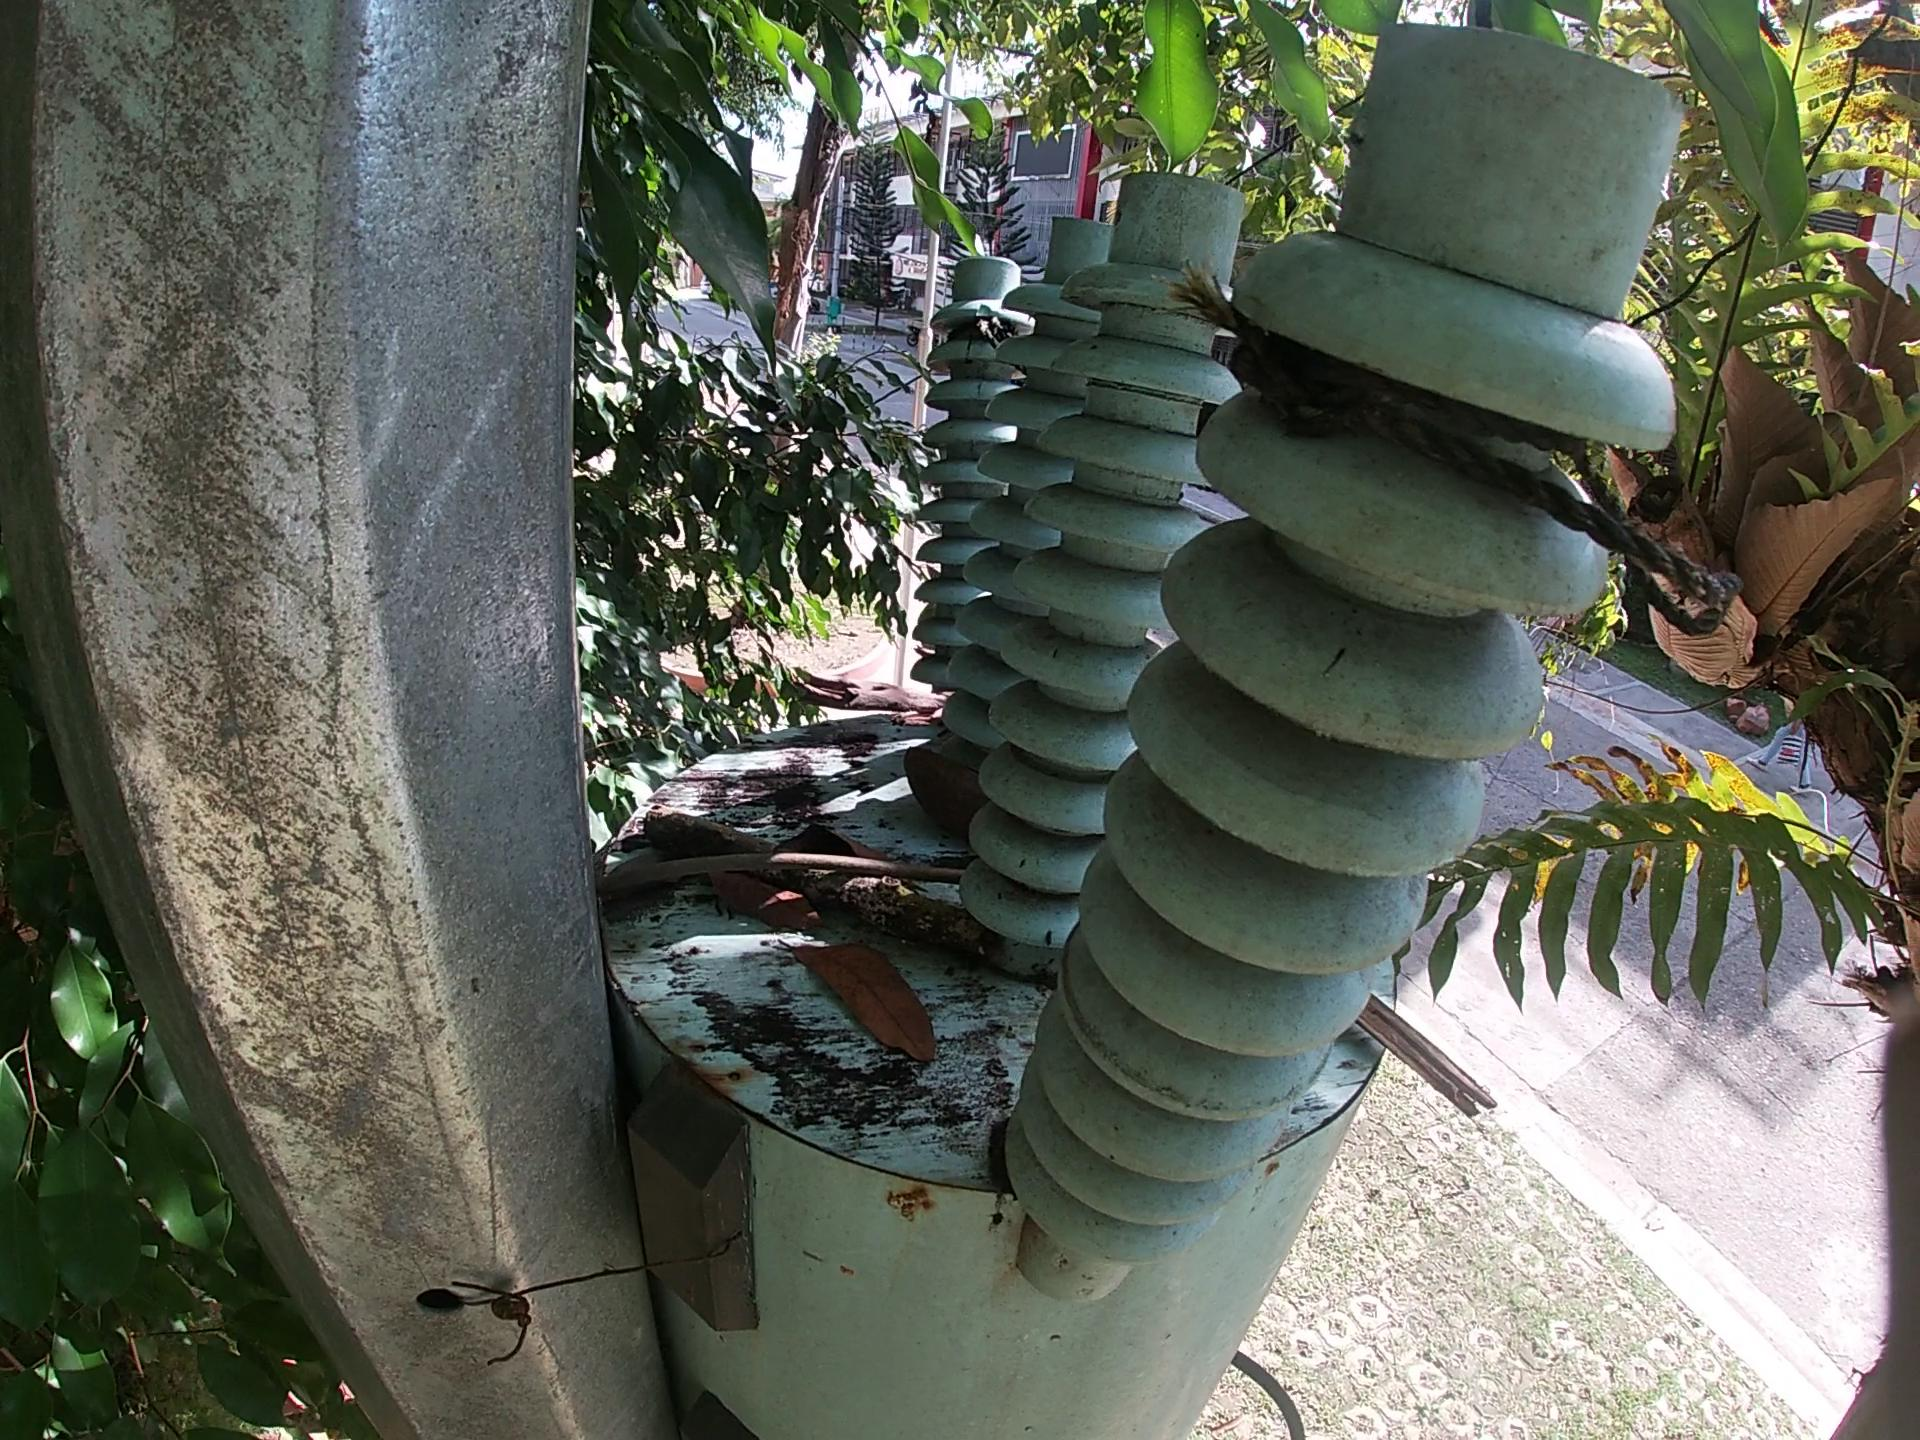leaf: (797, 948, 962, 1066), (715, 879, 835, 939), (785, 832, 897, 861)
mahogany fruit: (897, 762, 971, 824)
tree branch: (676, 824, 1061, 992), (617, 843, 957, 920), (1344, 992, 1515, 1142), (766, 658, 949, 714)
